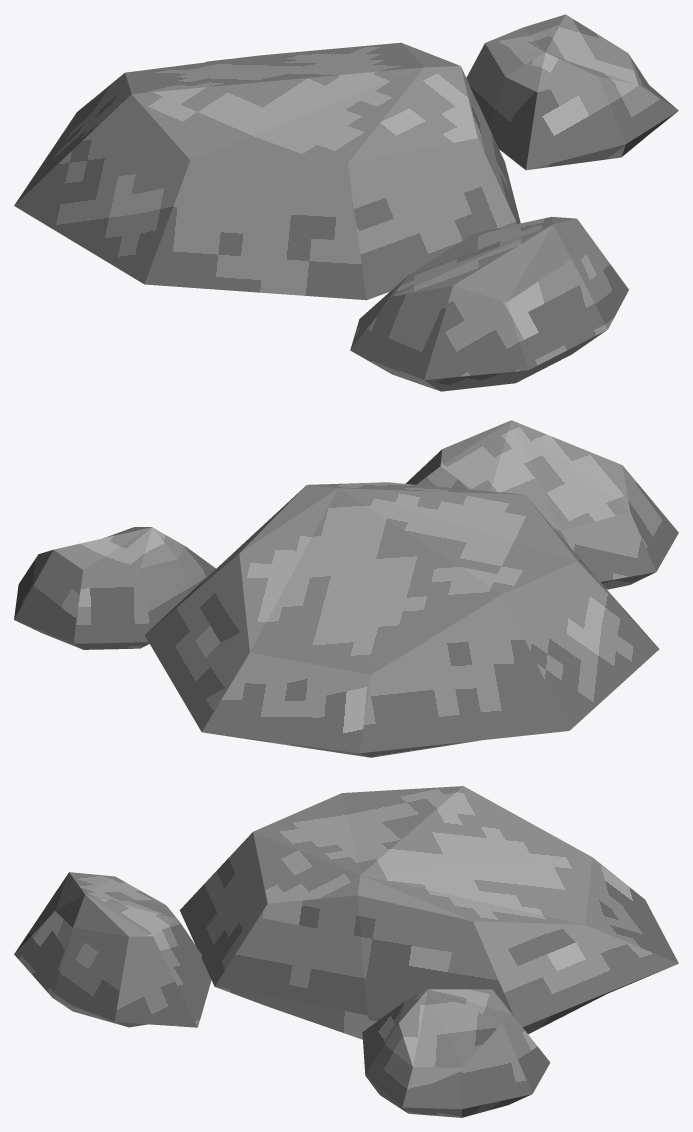
File: stone3.gltf
The picture shows the model from 3 angles, top to bottom: view 1: azimuth 30°, elevation 25°; view 2: azimuth 150°, elevation 25°; view 3: azimuth 270°, elevation 25°; orthographic projection. The views are drawn at different scales.
Visible parts, largest first — view 1: sphere (×3); view 2: sphere (×3); view 3: sphere (×3).
Part boxes in pixels (x1,y1,x2,y2): sphere (×3): [14, 14, 678, 391]; sphere (×3): [14, 420, 678, 757]; sphere (×3): [14, 786, 678, 1117].
Bounding box in the file's own units: 0.9562 × 0.2812 × 1.03.
Materials: 1 (1 with a texture image).
